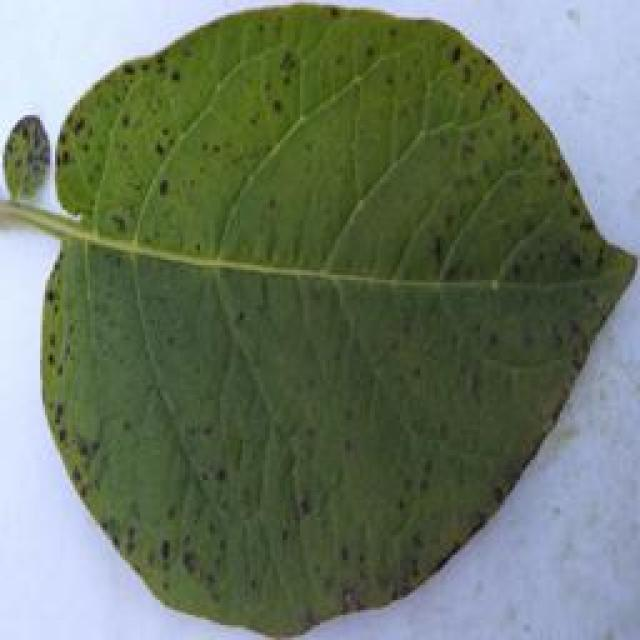Potato_Early_Blight: (38, 0, 640, 634)
